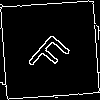F: (25, 25, 79, 80)
